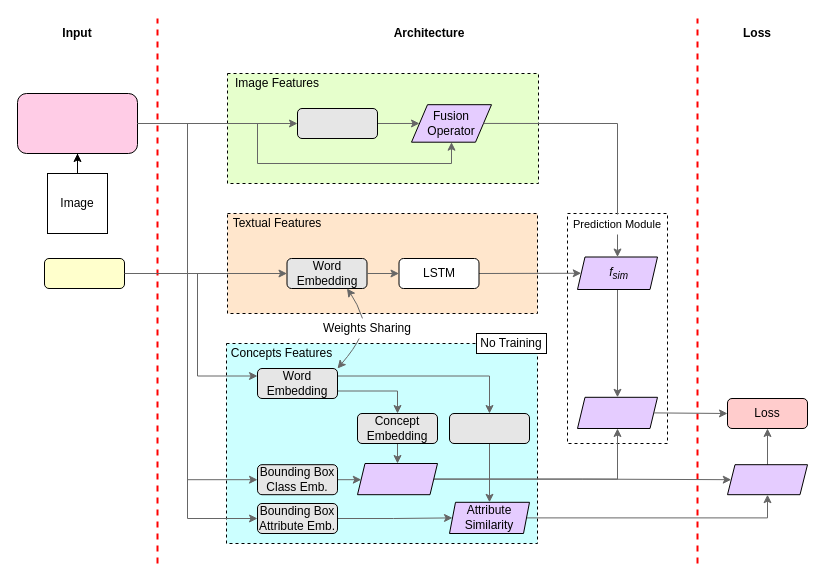
This 825x582 diagram has some shape labels left out. The shapes that lost their labels are listed below. From the top down, each one's centre as x and y in pixels, then its label:
(x=77, y=123): Object Detector (Region of Interest)
(x=337, y=123): Spatial Features
(x=84, y=273): Query
(x=489, y=428): Adjective Embedding
(x=617, y=412): f apply
(x=397, y=478): Concept Similarity
(x=767, y=479): Direction
